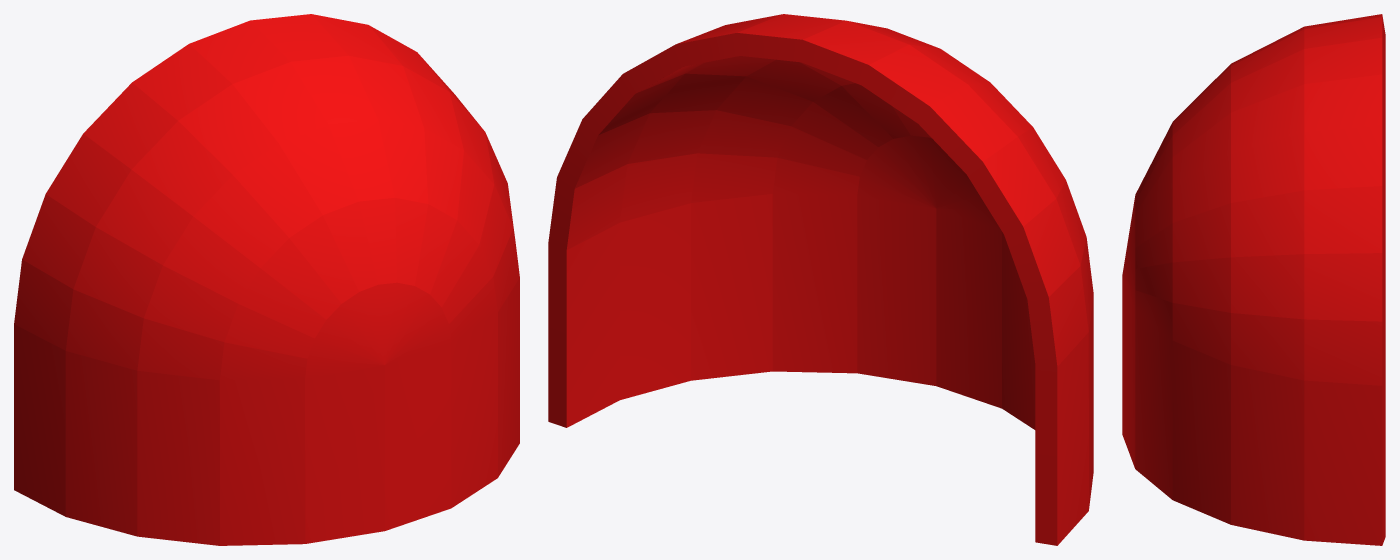
Rendered from But_rouge_v2_001.FBX.
3 renders of one model, left to right at view 1: azimuth 30°, elevation 25°; view 2: azimuth 150°, elevation 25°; view 3: azimuth 270°, elevation 25°, orthographic. The views are drawn at different scales.
Parts seen in each view (by area): view 1: Sphere004; view 2: Sphere004; view 3: Sphere004.
Boxes of the visible parts, box(x1,y1,x2,y2) form: Sphere004: box(14, 14, 519, 545); Sphere004: box(548, 14, 1093, 545); Sphere004: box(1122, 14, 1385, 545).
Bounding box in the file's own units: 300 × 250 × 150.
